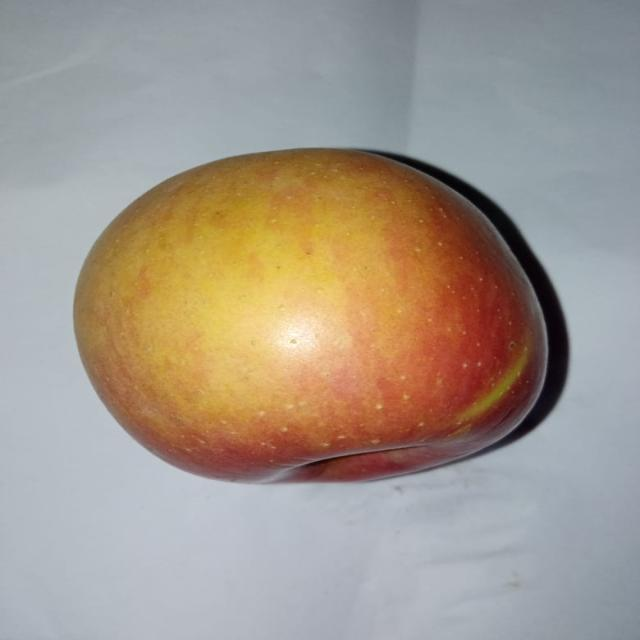fresh_apple: (70, 148, 550, 484)
